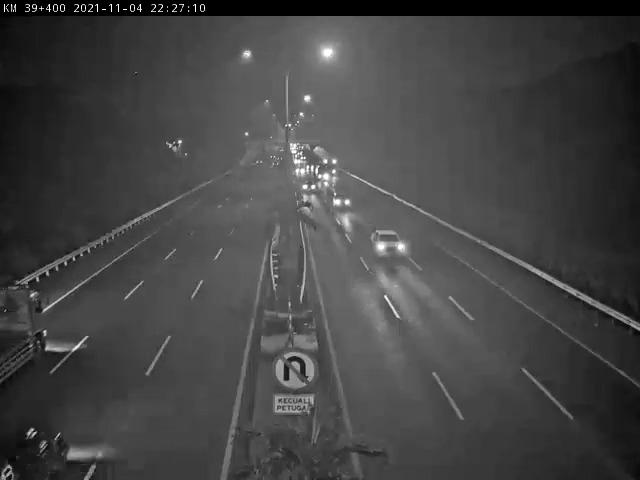car: (370, 228, 402, 256), (331, 194, 350, 209)
